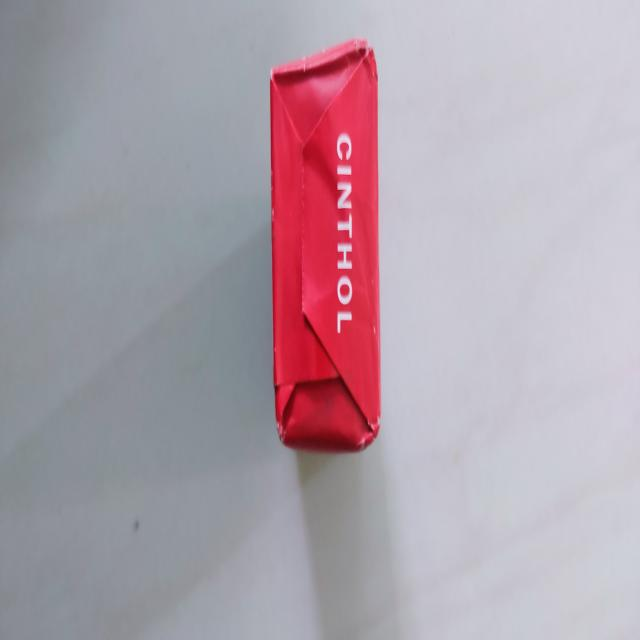soap: (264, 31, 385, 454)
